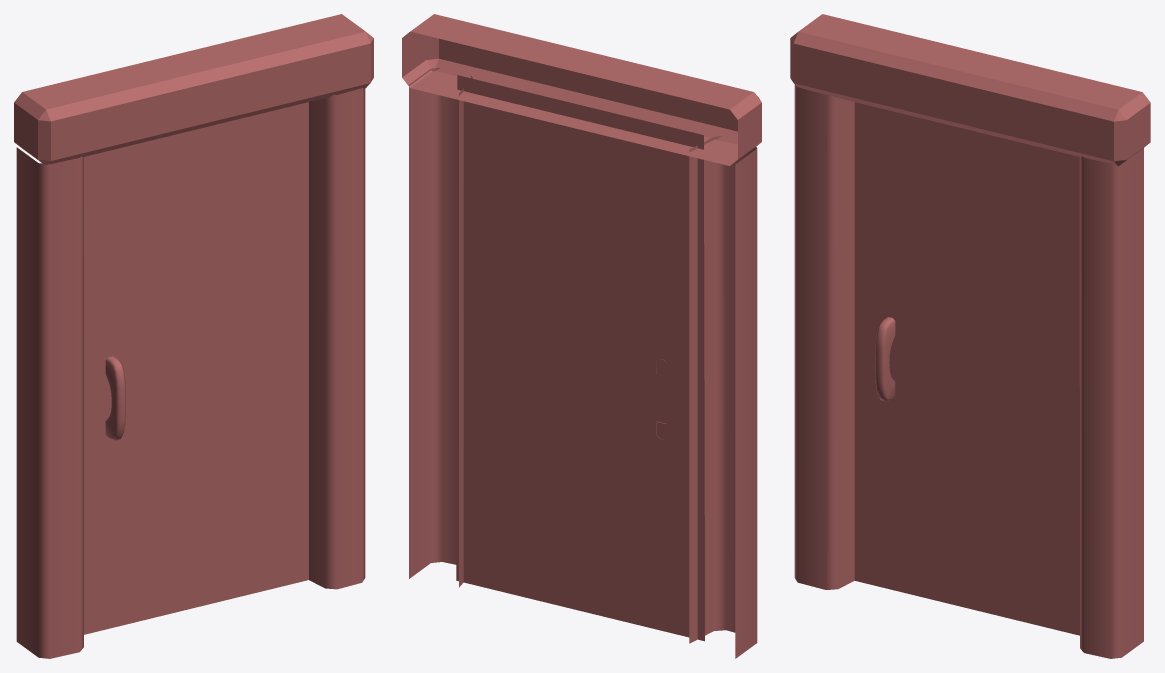
Rendered from Doors_2.fbx.
The picture shows the model from 3 angles, left to right: view 1: azimuth 30°, elevation 25°; view 2: azimuth 150°, elevation 25°; view 3: azimuth 330°, elevation 25°; orthographic projection.
Visible parts, largest first — view 1: D_4; view 2: D_4; view 3: D_4.
Boxes of the visible parts, left/top/right/bottom form: D_4: left=14, top=14, right=373, bottom=658; D_4: left=402, top=14, right=761, bottom=658; D_4: left=790, top=14, right=1150, bottom=658.
Bounding box in the file's own units: 161 × 251 × 23.83.
